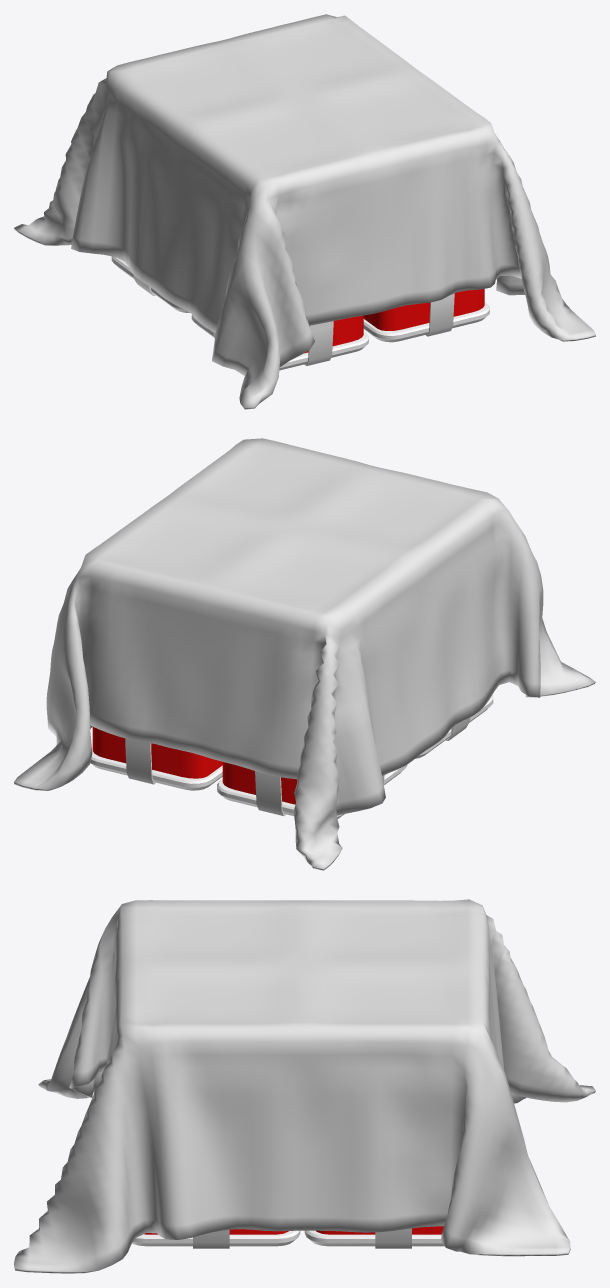
The picture shows the model from 3 angles, top to bottom: view 1: azimuth 30°, elevation 25°; view 2: azimuth 150°, elevation 25°; view 3: azimuth 270°, elevation 25°; orthographic projection. The views are drawn at different scales.
Visible parts, largest first — view 1: Plane, Box_2.002, Ropes.001; view 2: Plane, Box_2.002, Ropes.001; view 3: Plane, Box_2.002, Ropes.001.
Boxes of the visible parts, x1,y1,x2,y2 form: Plane: (14, 14, 595, 409); Box_2.002: (111, 256, 489, 370); Ropes.001: (133, 274, 454, 365); Plane: (14, 438, 595, 870); Box_2.002: (90, 695, 493, 818); Ropes.001: (125, 717, 470, 816); Plane: (14, 899, 595, 1273); Box_2.002: (132, 1226, 444, 1246); Ropes.001: (193, 1228, 411, 1248).
Size of the model in its own units: 319 by 249 by 134.
